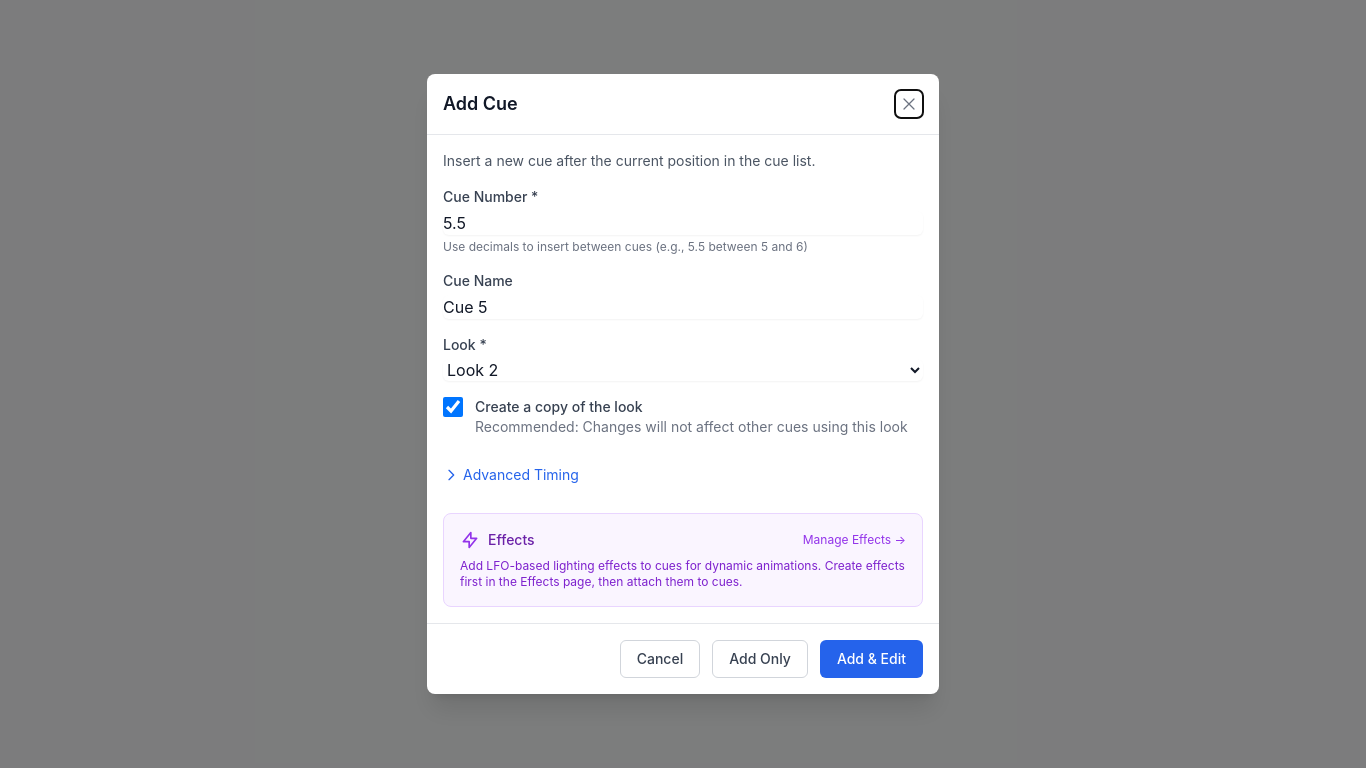
Test: AddCueDialog › Form Interactions › shows/hides advanced timing section
Expected: the field labelled "Fade In Time" is not shown
// Click to show
Click the button "Advanced Timing" at (511, 475), box 443,453 -> 579,497
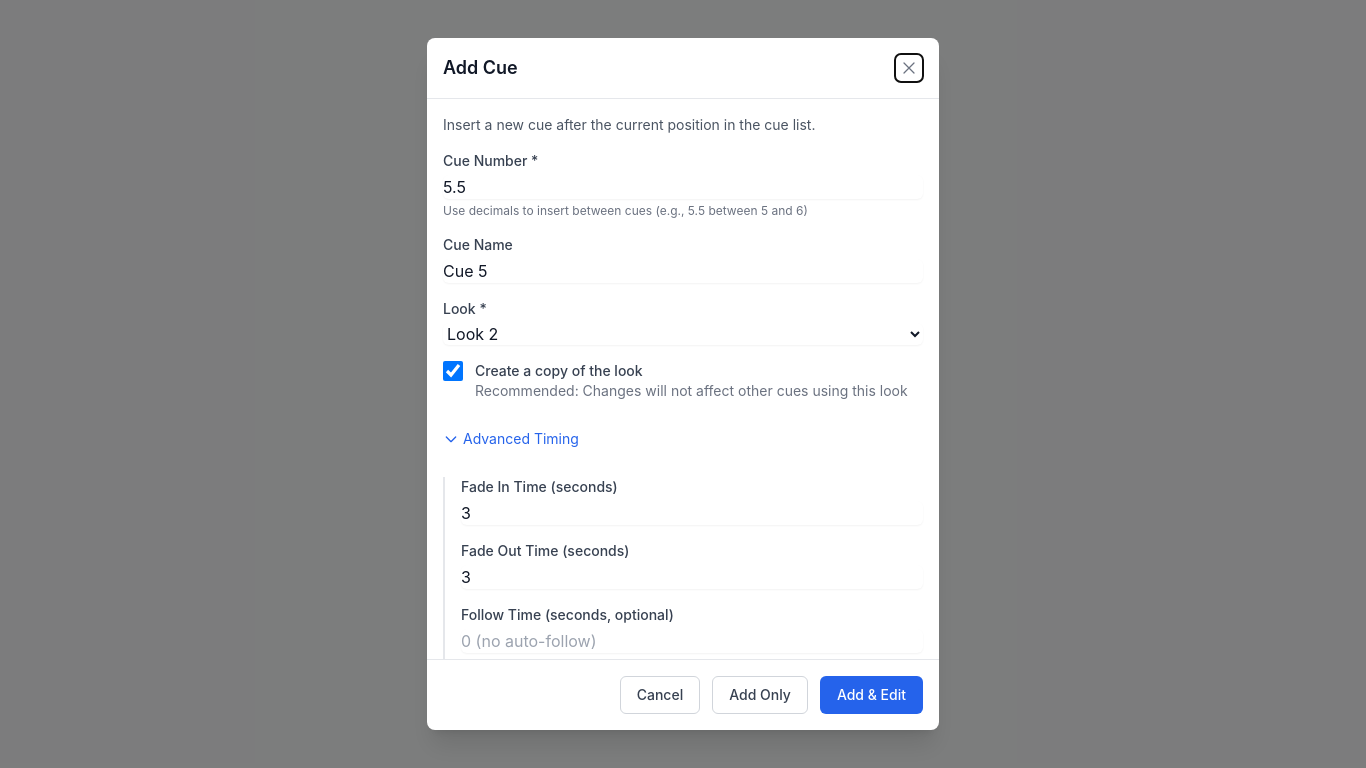
Expected: the field labelled "Fade In Time (seconds)" is shown, 461,501 -> 923,525
Expected: the field labelled "Fade Out Time (seconds)" is shown, 461,565 -> 923,589
Expected: the field labelled "Follow Time (seconds, optional)" is shown, 461,629 -> 923,653
// Click to hide
Click the button "Advanced Timing" at (511, 439), box 443,417 -> 579,461
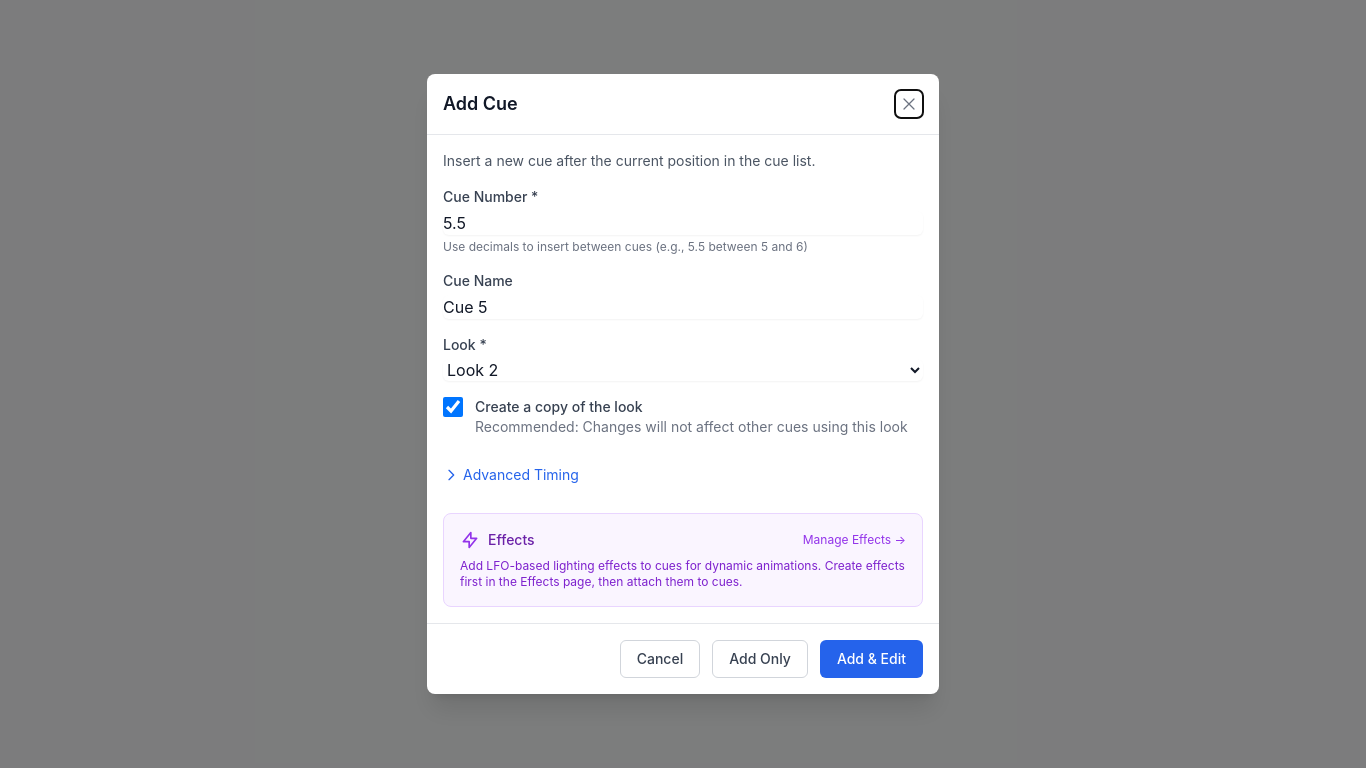
Expected: the label labelled "Fade In Time" is gone
